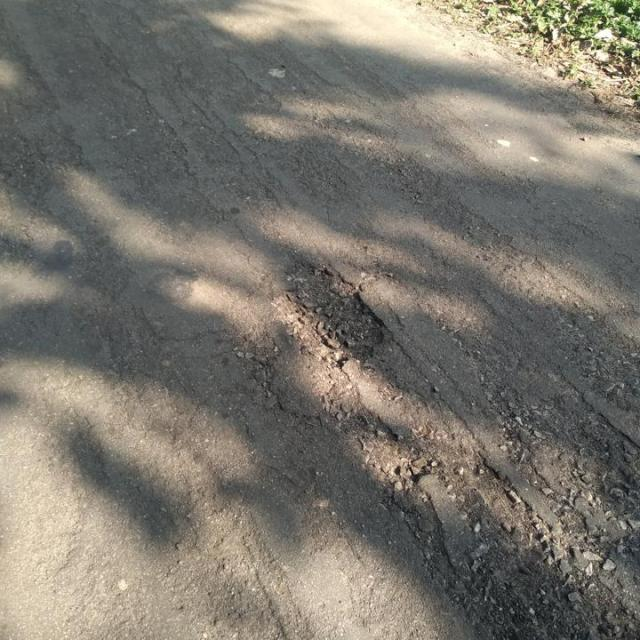medium_pothole: (268, 258, 391, 370)
